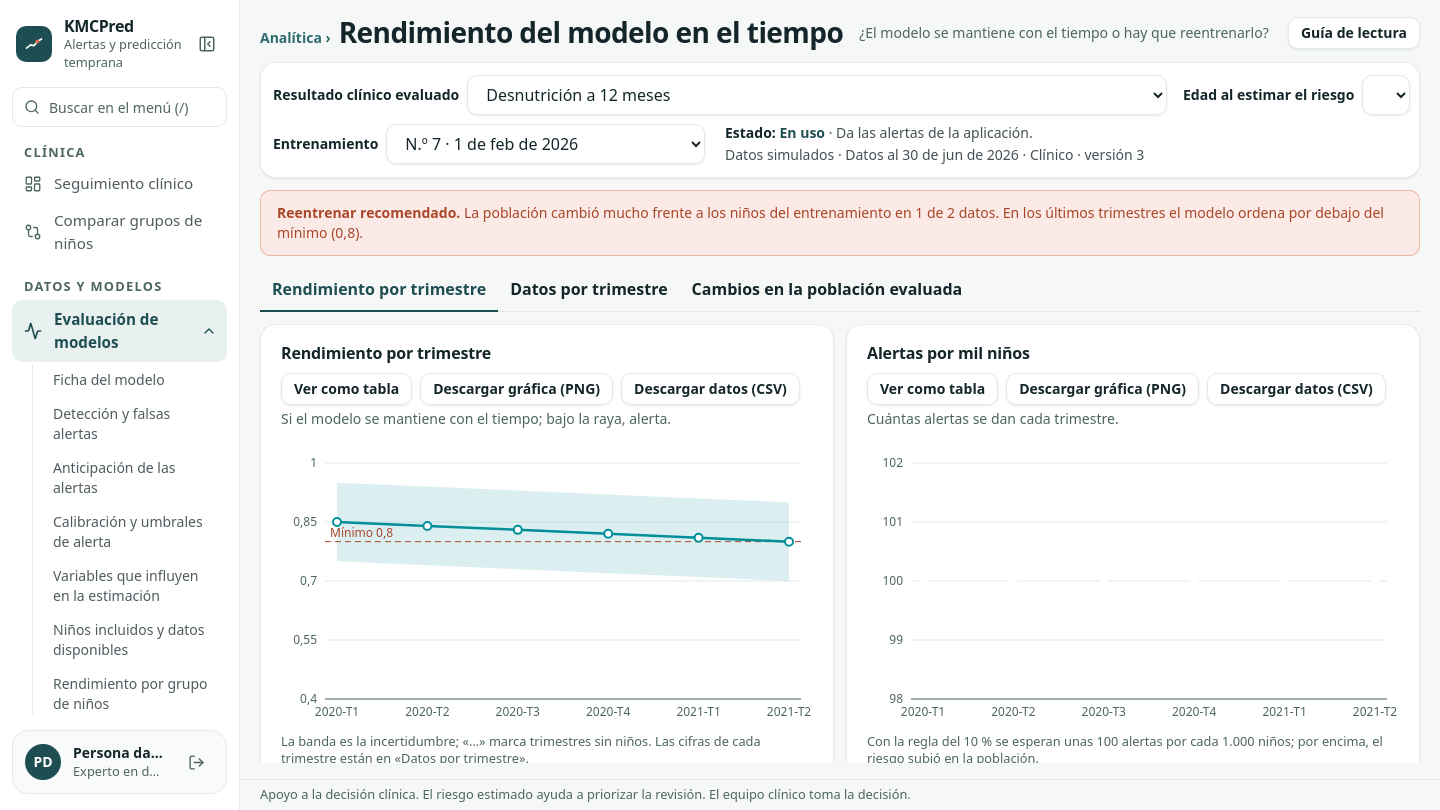
Scenario: Estabilidad en pestañas › «Datos por trimestre» tiene la tabla de la gráfica y «Cambio de la población» el cuadro de cambios con su semáforo
The image size is (1440, 810).
Click the tab "Datos por trimestre".
click(589, 290)  # box [498, 268, 680, 312]
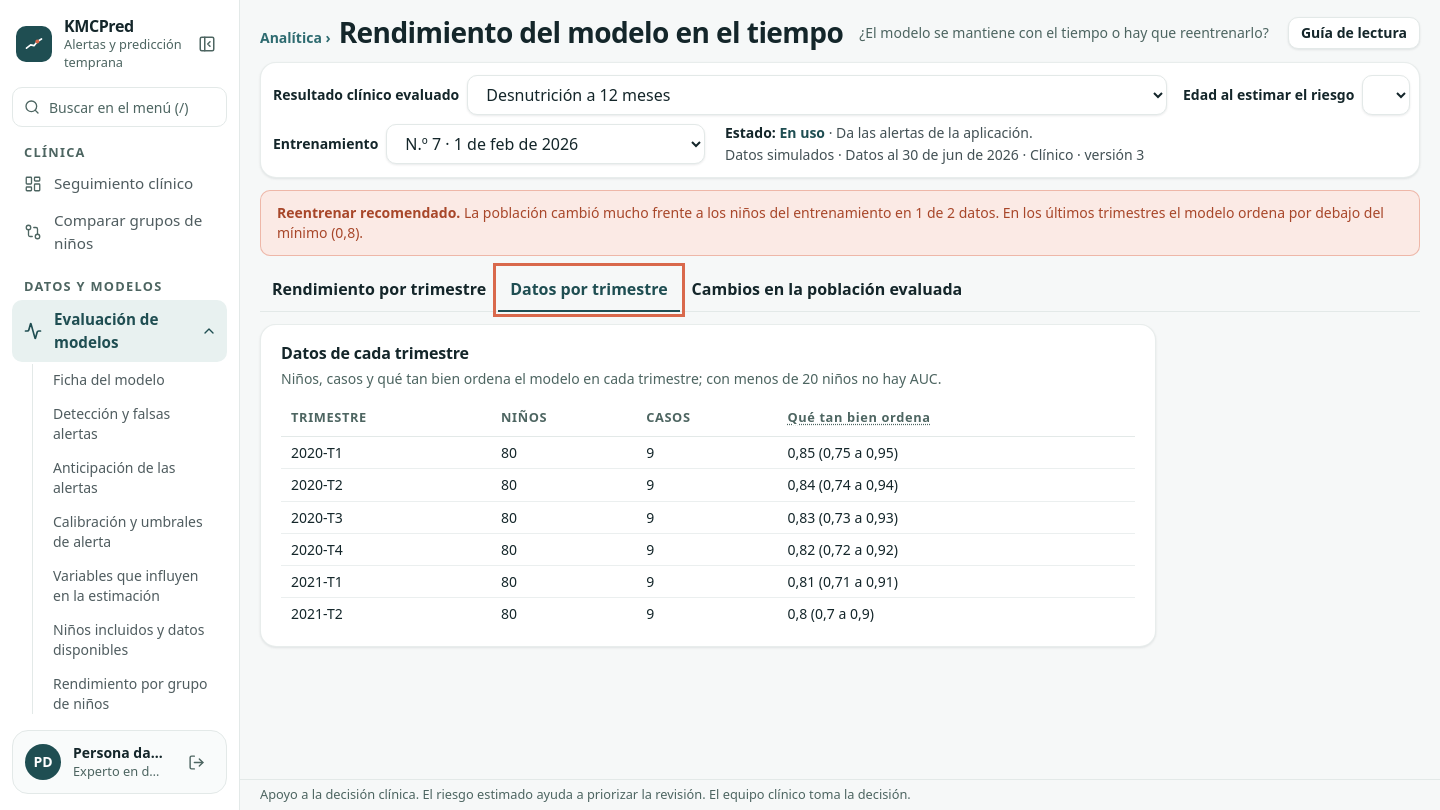
Expected: the column heading "Casos" is shown, [636, 405, 777, 437]
Click the tab "Cambios en la población evaluada".
click(827, 290)  # box [680, 268, 974, 312]
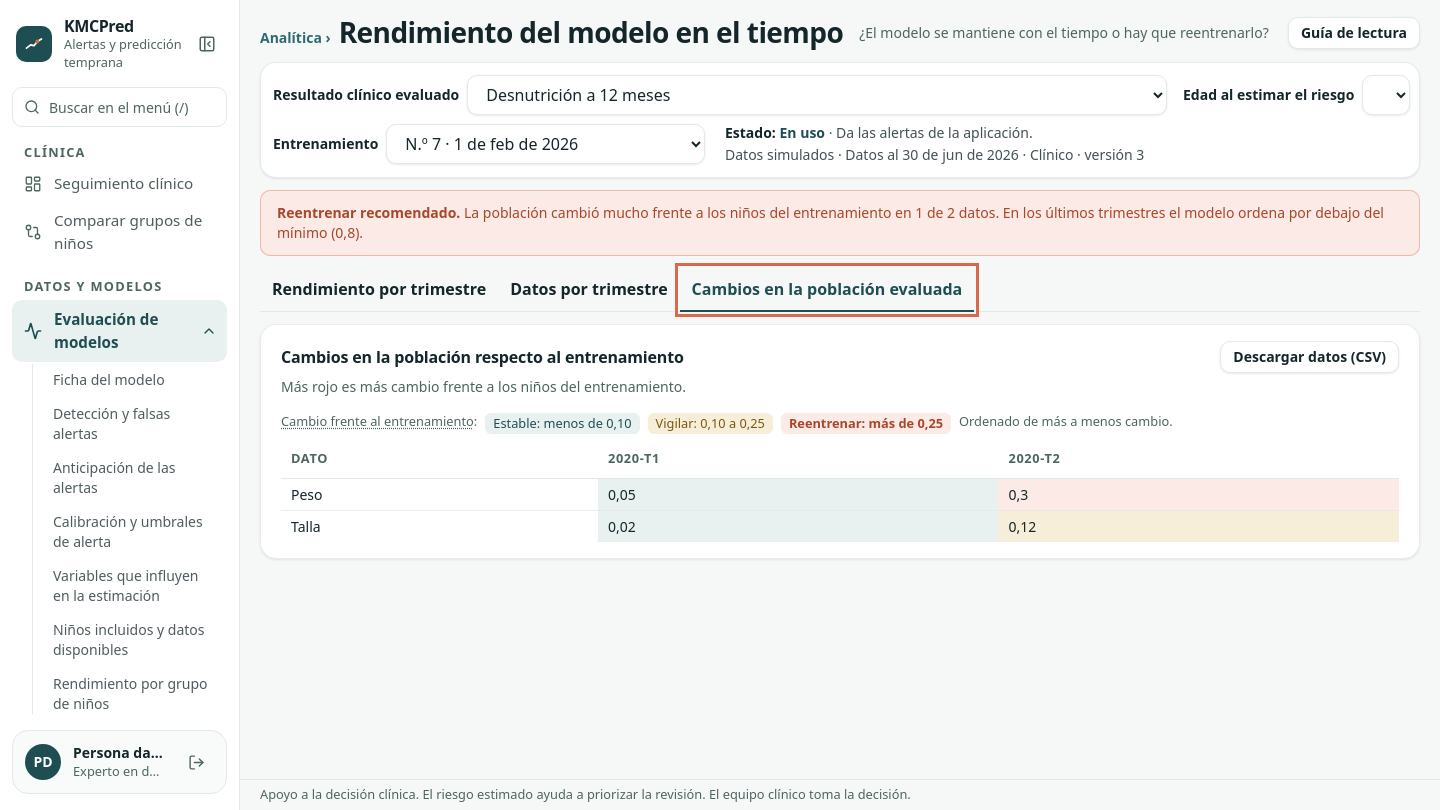
Expected: the column heading "2020-T2" is shown, [998, 446, 1399, 478]
Expected: the text "Reentrenar: más de 0,25" is shown, [781, 413, 951, 434]
Expected: the text "Estable: menos de 0,10" is shown, [485, 413, 640, 434]
